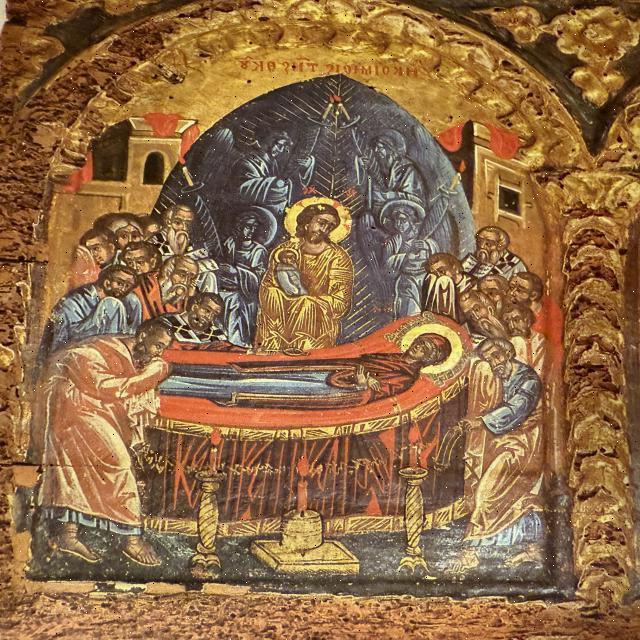aura: (280, 198, 355, 246), (401, 324, 468, 372), (271, 248, 303, 267)
christ: (248, 191, 376, 343)
mary_dead: (144, 321, 469, 415)
